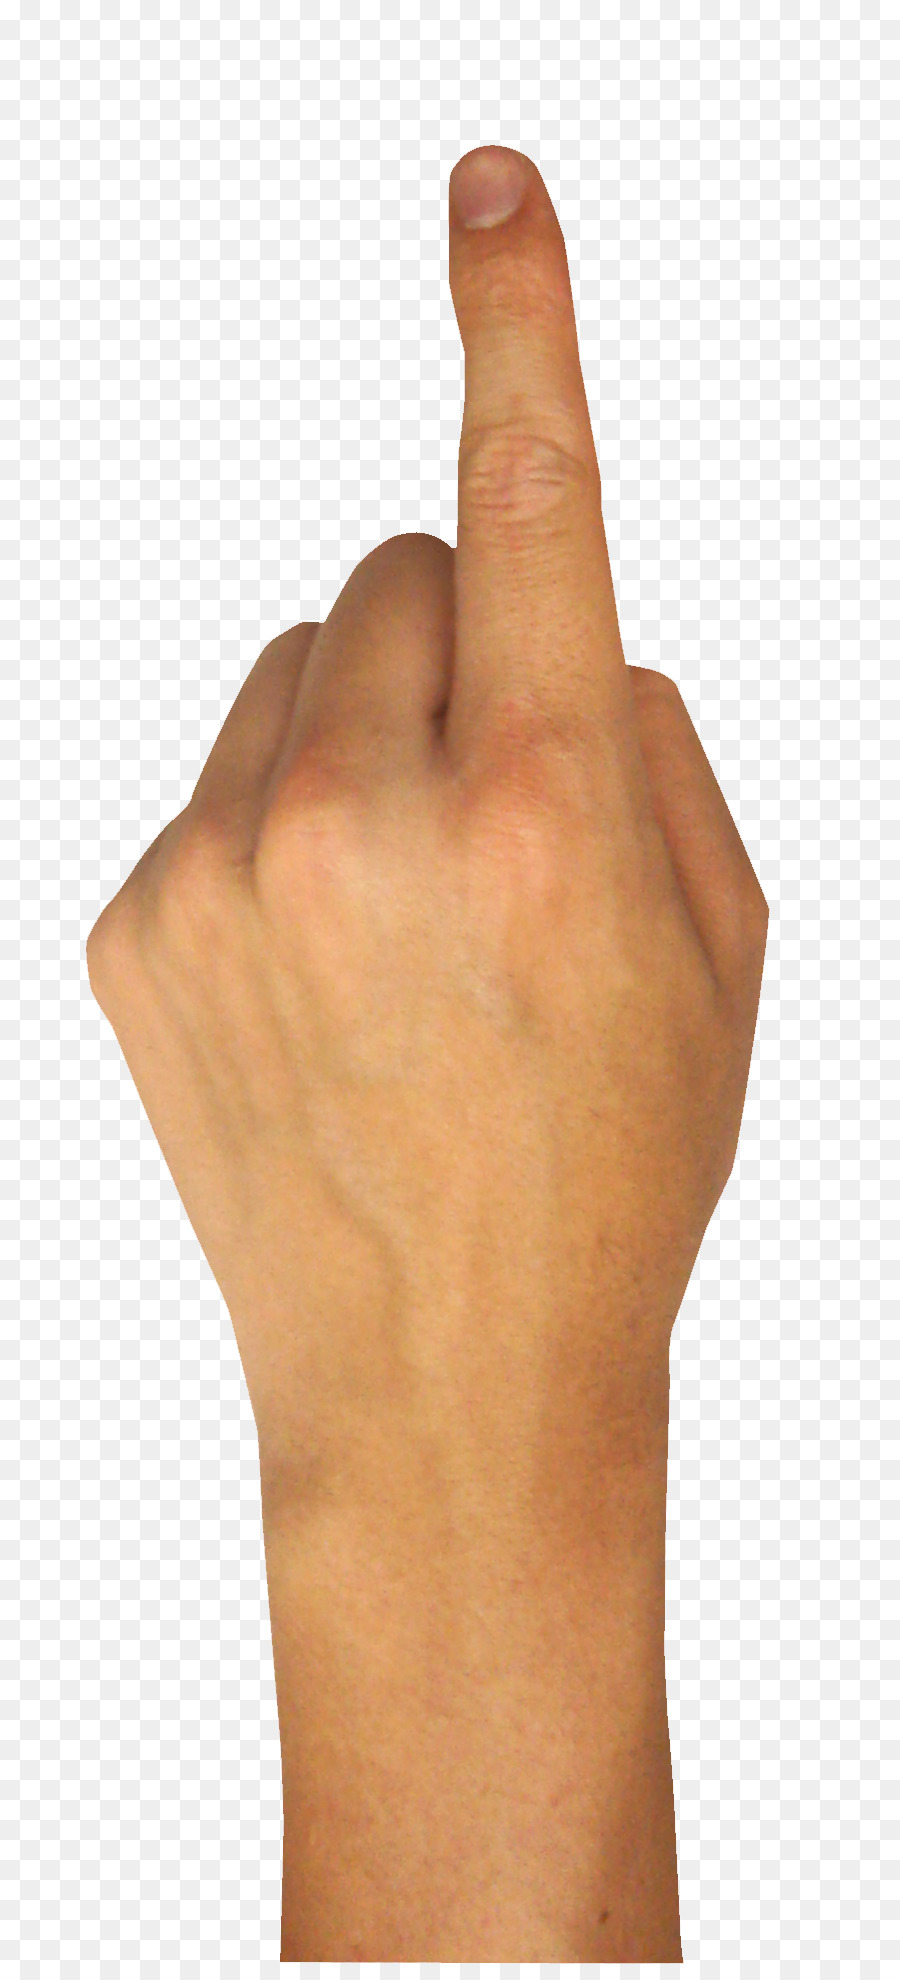move: (96, 143, 771, 1392)
